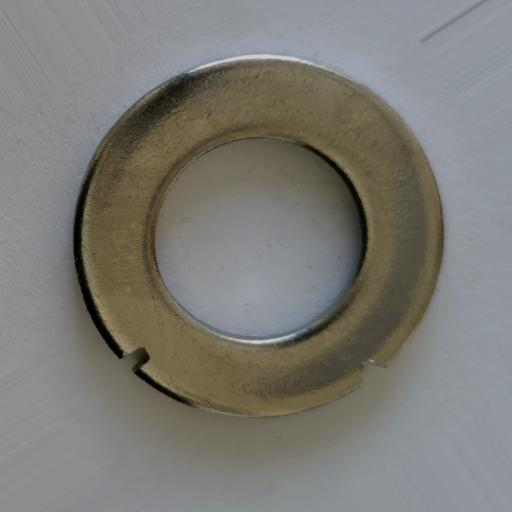burr: (357, 357, 388, 386), (120, 346, 151, 372)
